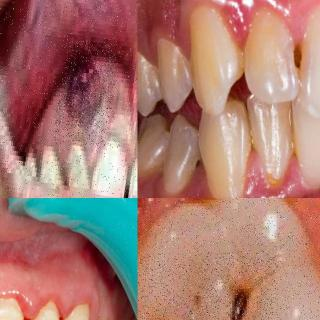Gum Swelling: (177, 0, 320, 60), (0, 279, 100, 320), (242, 149, 308, 198)
cavities: (137, 247, 300, 320), (289, 40, 314, 74), (189, 157, 205, 174)
maligned: (165, 116, 202, 198), (138, 111, 168, 175)
stains: (269, 117, 305, 193), (237, 124, 267, 188), (228, 32, 255, 77)
